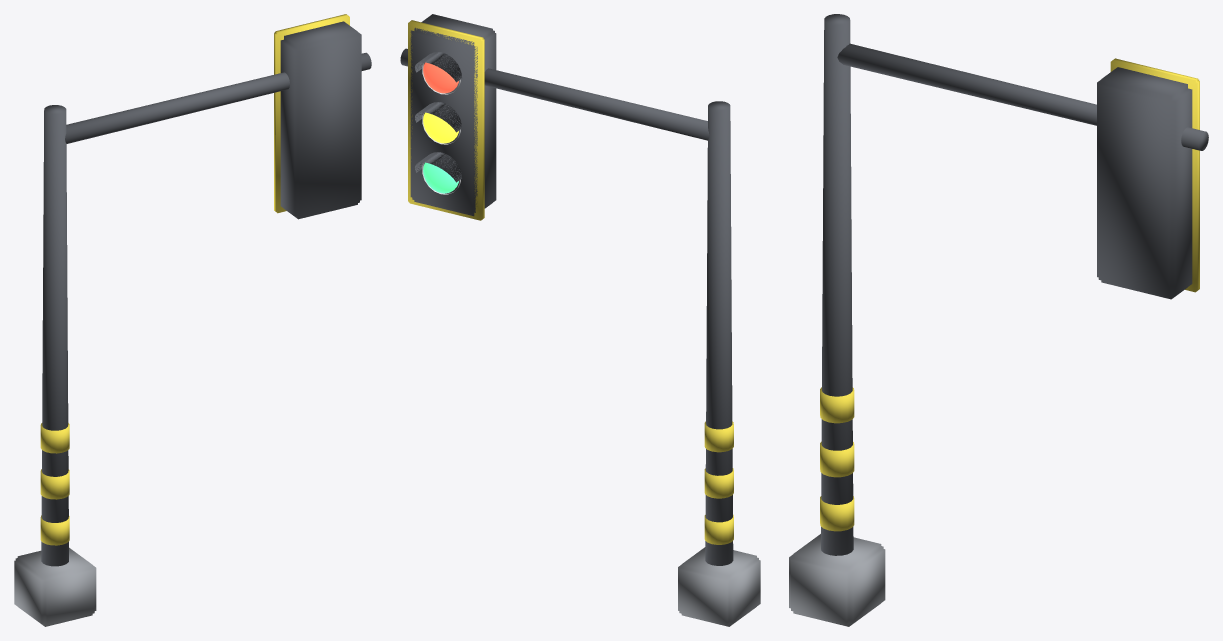
File: traffic_light.glb
The picture shows the model from 3 angles, left to right: view 1: azimuth 30°, elevation 25°; view 2: azimuth 150°, elevation 25°; view 3: azimuth 330°, elevation 25°; orthographic projection. The views are drawn at different scales.
Visible parts, largest first — view 1: LightBoxBack, PoleMain, PoleBase, ArmHoriz, LightBoxBorder, PoleStripe_2, PoleStripe_1, PoleStripe_0; view 2: LightBoxBack, PoleMain, PoleBase, ArmHoriz, LightBoxBorder, PoleStripe_2, PoleStripe_1, PoleStripe_0, Light_Red, Light_Green, Light_Yellow, Hood_Light_Green (+2 smaller); view 3: LightBoxBack, PoleMain, PoleBase, ArmHoriz, LightBoxBorder, PoleStripe_2, PoleStripe_1, PoleStripe_0.
Boxes of the visible parts, x1,y1,x2,y2 form: LightBoxBack: (280,21,361,219); PoleMain: (41,105,68,566); PoleBase: (14,547,96,626); ArmHoriz: (65,52,371,143); LightBoxBorder: (274,14,349,213); PoleStripe_2: (40,423,69,453); PoleStripe_1: (40,469,69,499); PoleStripe_0: (40,515,69,545); LightBoxBack: (410,14,496,216); PoleMain: (705,101,733,565); PoleBase: (678,547,760,626); ArmHoriz: (400,48,709,140); LightBoxBorder: (408,20,484,220); PoleStripe_2: (704,421,733,452); PoleStripe_1: (704,468,733,498); PoleStripe_0: (704,514,733,544); Light_Red: (423,62,458,93); Light_Green: (423,162,458,193); Light_Yellow: (423,112,458,143); Hood_Light_Green: (415,152,461,182); LightBoxBack: (1097,67,1192,299); PoleMain: (821,14,853,555); PoleBase: (789,534,885,626); ArmHoriz: (837,43,1208,150); LightBoxBorder: (1110,58,1199,292); PoleStripe_2: (820,387,854,423); PoleStripe_1: (820,441,854,477); PoleStripe_0: (820,496,854,531).
Bounding box in the file's own units: 3.86 × 5.63 × 0.81.
